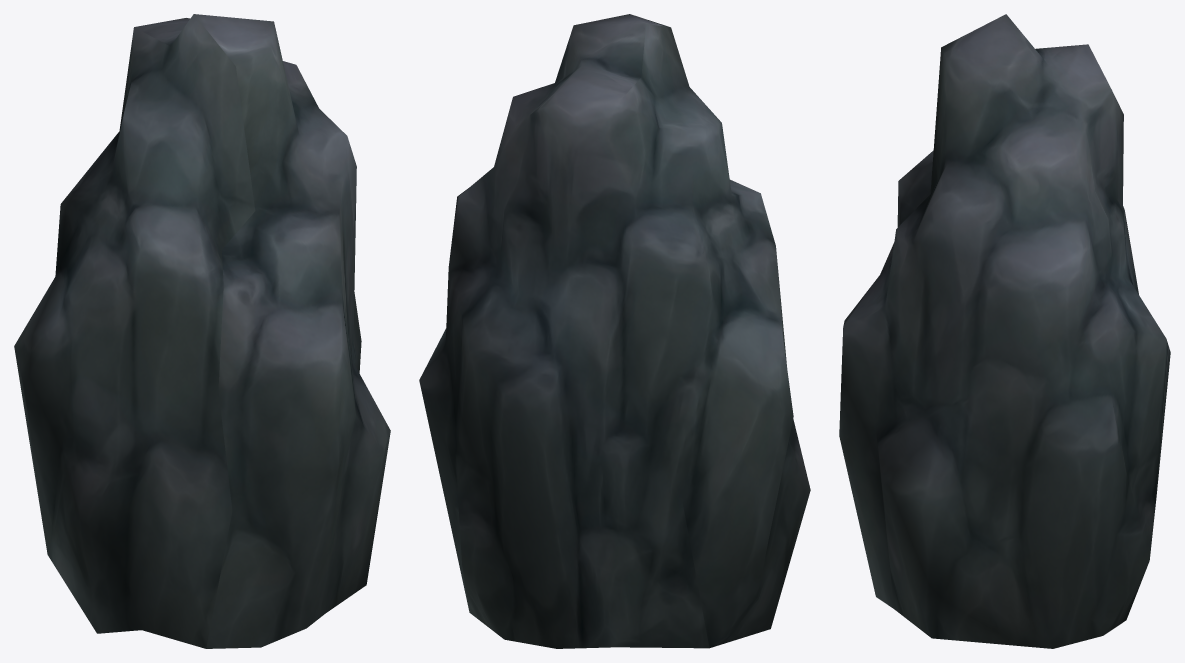
The model's file is TwistedJungle_Stone02.FBX.
The picture shows the model from 3 angles, left to right: view 1: azimuth 30°, elevation 25°; view 2: azimuth 150°, elevation 25°; view 3: azimuth 270°, elevation 25°; orthographic projection. The views are drawn at different scales.
Visible parts, largest first — view 1: TwistedJungle_Stone02; view 2: TwistedJungle_Stone02; view 3: TwistedJungle_Stone02.
Part boxes in pixels (x1=…): TwistedJungle_Stone02: x1=14, y1=14, x2=390, y2=648; TwistedJungle_Stone02: x1=419, y1=14, x2=810, y2=648; TwistedJungle_Stone02: x1=839, y1=14, x2=1170, y2=648.
Size of the model in its own units: 107 by 175 by 90.99.
